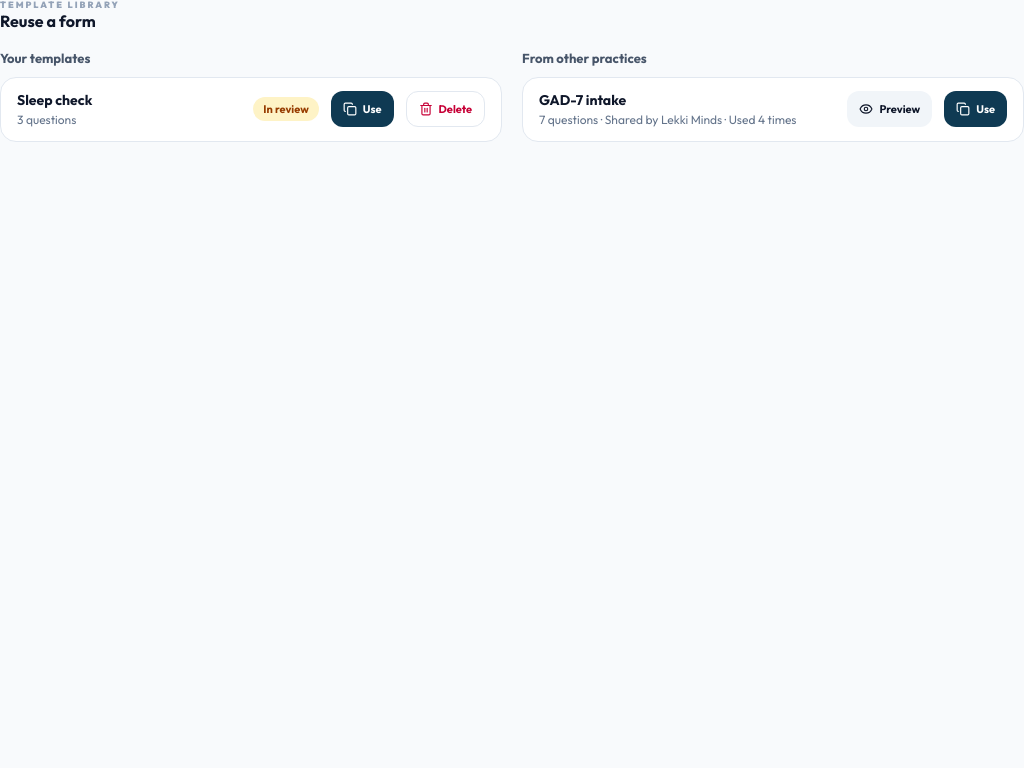
Template library › previews a shared template's questions
Step 1. Click the button "Preview" → (890, 109), box [847, 91, 932, 127]
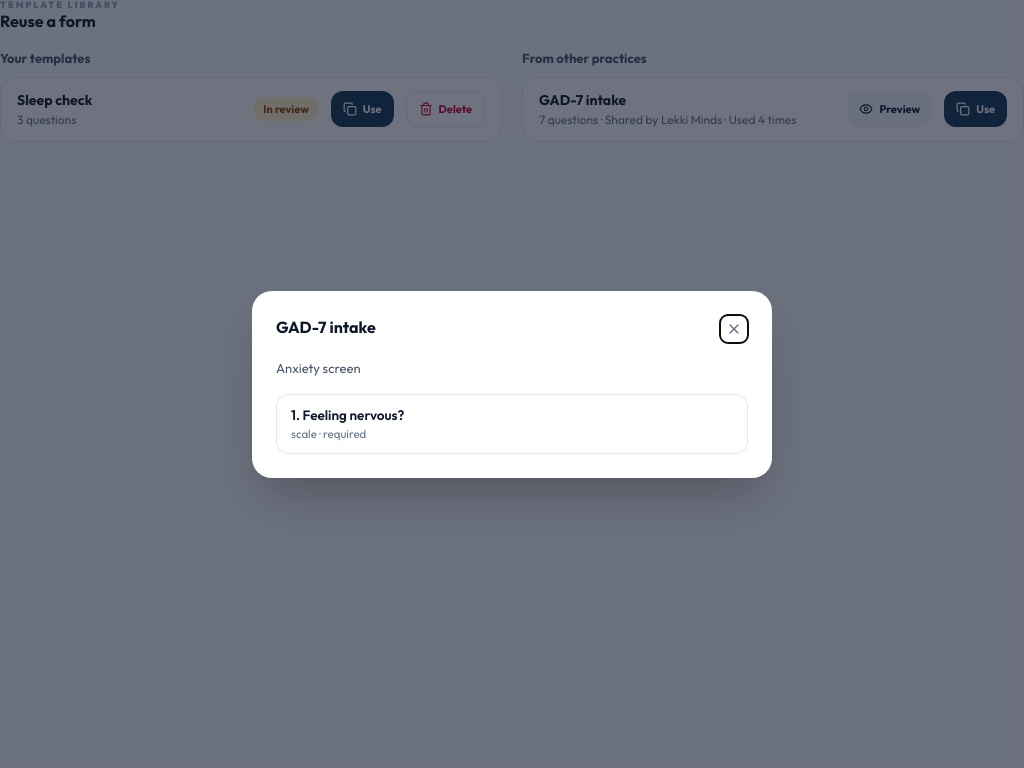
Result: the text "1. Feeling nervous?" is shown at [291, 406, 404, 424]
